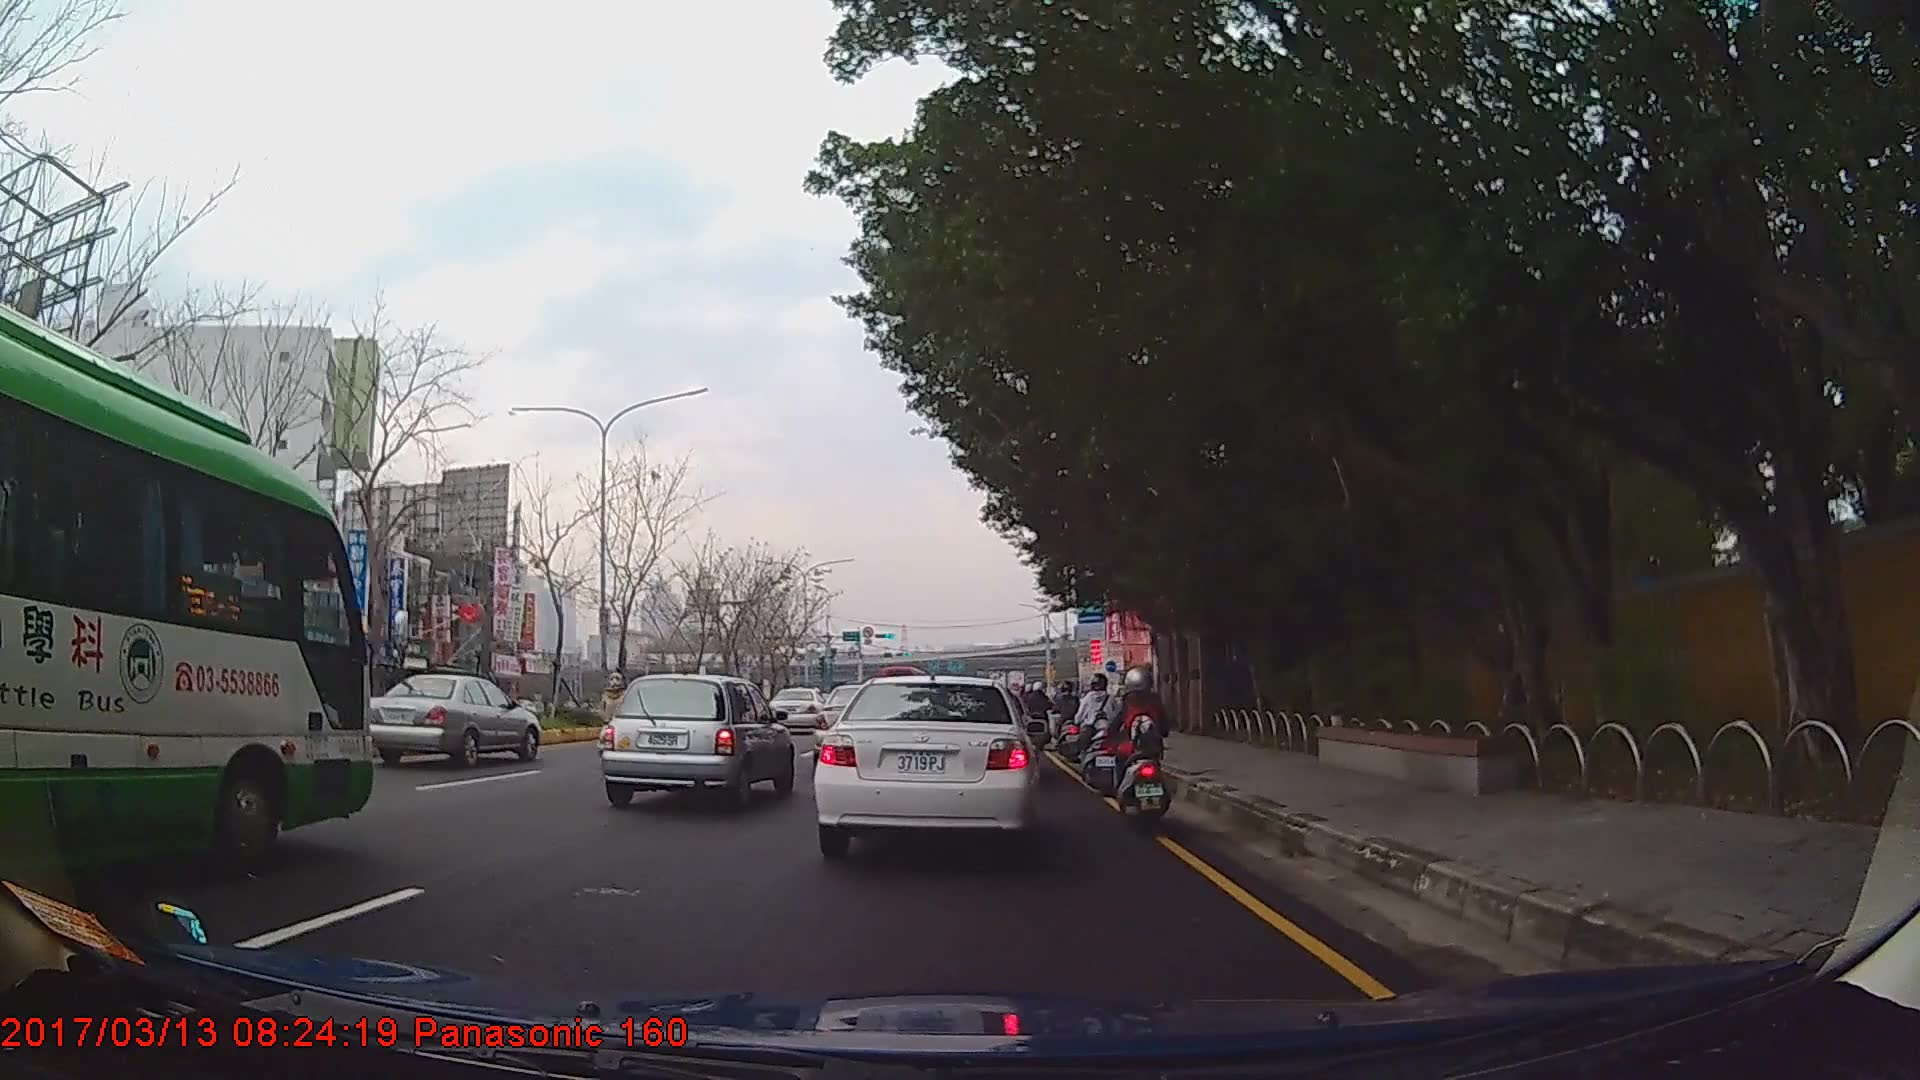rider: (1104, 661, 1164, 820), (1074, 672, 1124, 790), (600, 670, 634, 747), (1054, 681, 1081, 751)
vehicle: (0, 296, 375, 885), (812, 674, 1039, 855), (599, 672, 791, 809), (367, 673, 539, 766), (769, 682, 824, 726)
